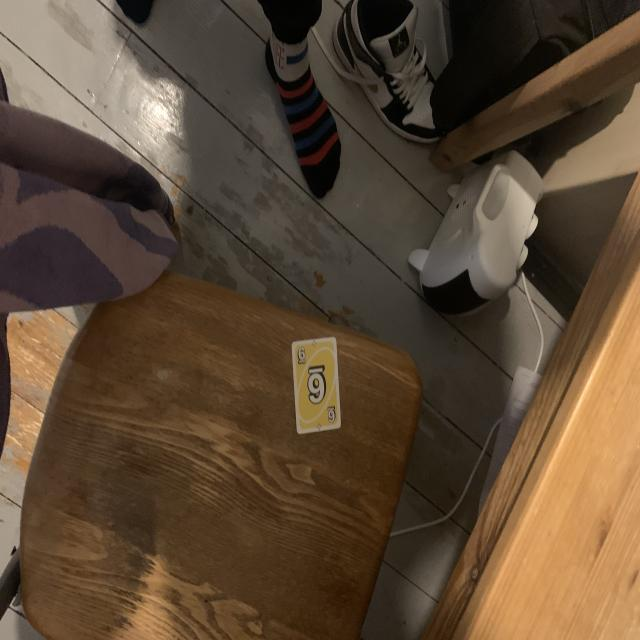lyellow-6: (294, 344, 309, 366)
